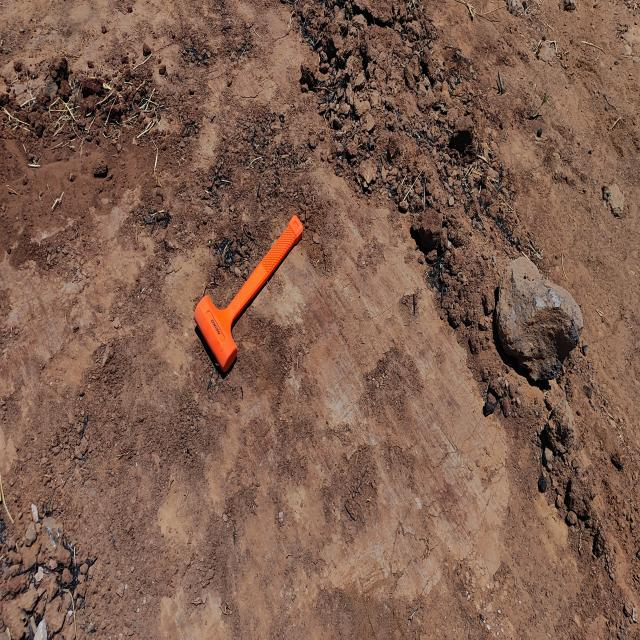Orange_hammer: (193, 213, 304, 375)
